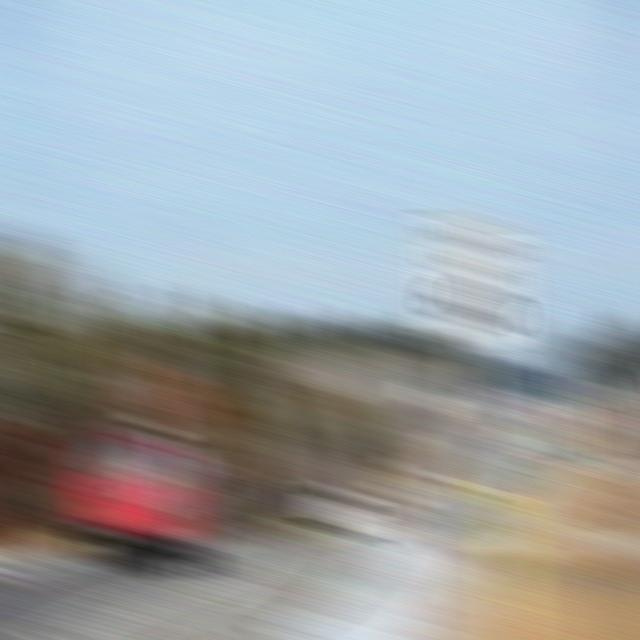speedLimit60: (423, 208, 521, 346)
